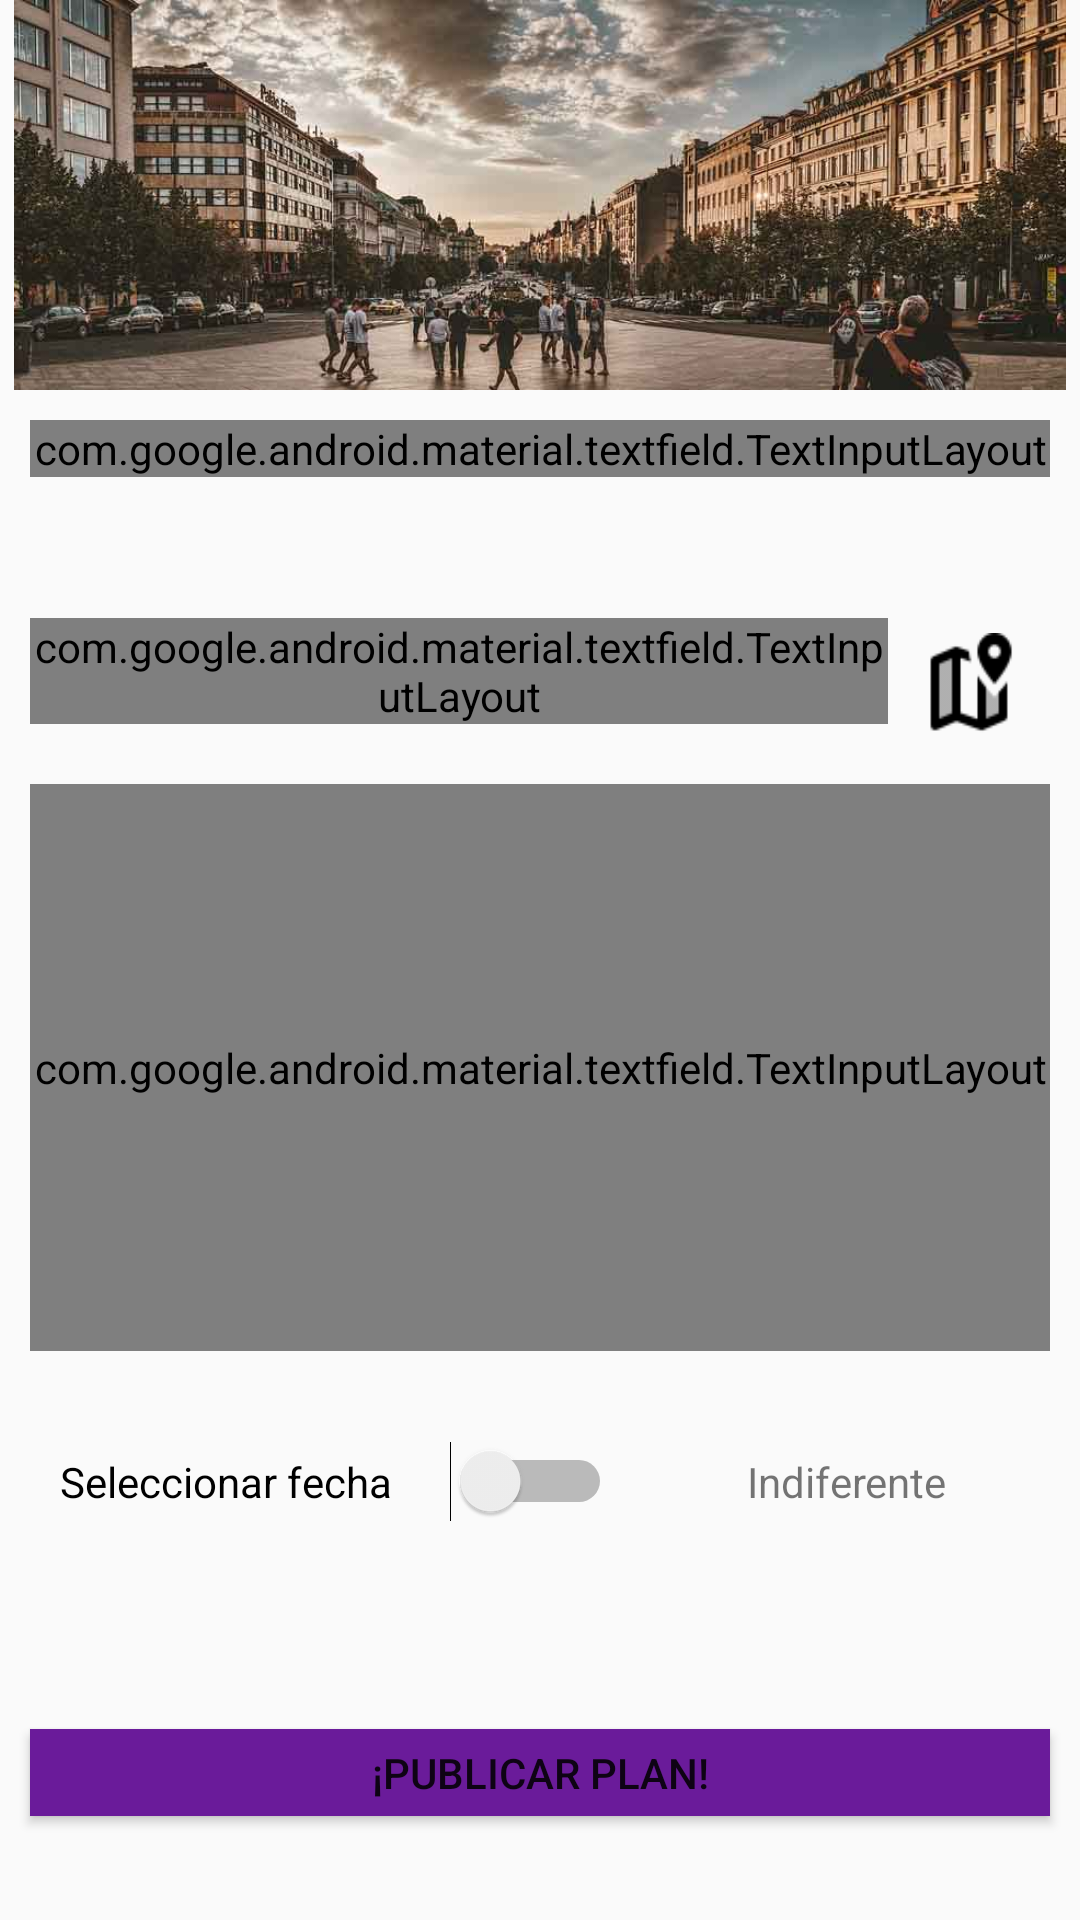

Screen size 1080 x 1920. Icon name, then its center in pixels as (x,y):
mapa: (971,682)
